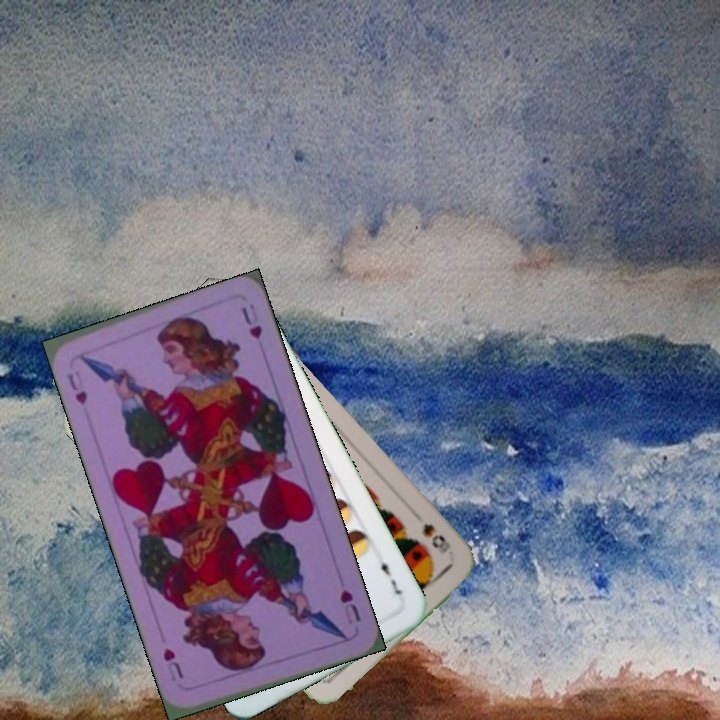E7: (376, 551, 404, 598)
HU: (335, 585, 364, 627), (63, 370, 90, 407)
S8: (418, 519, 454, 557)
